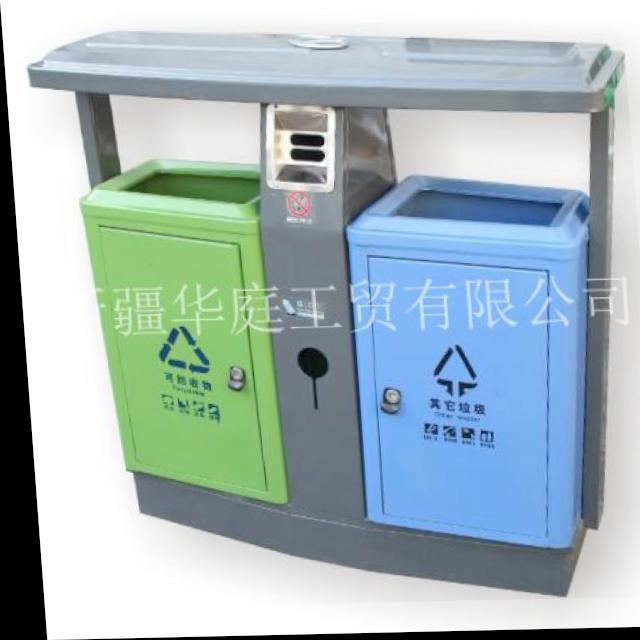garbage_bin: (22, 20, 640, 610)
